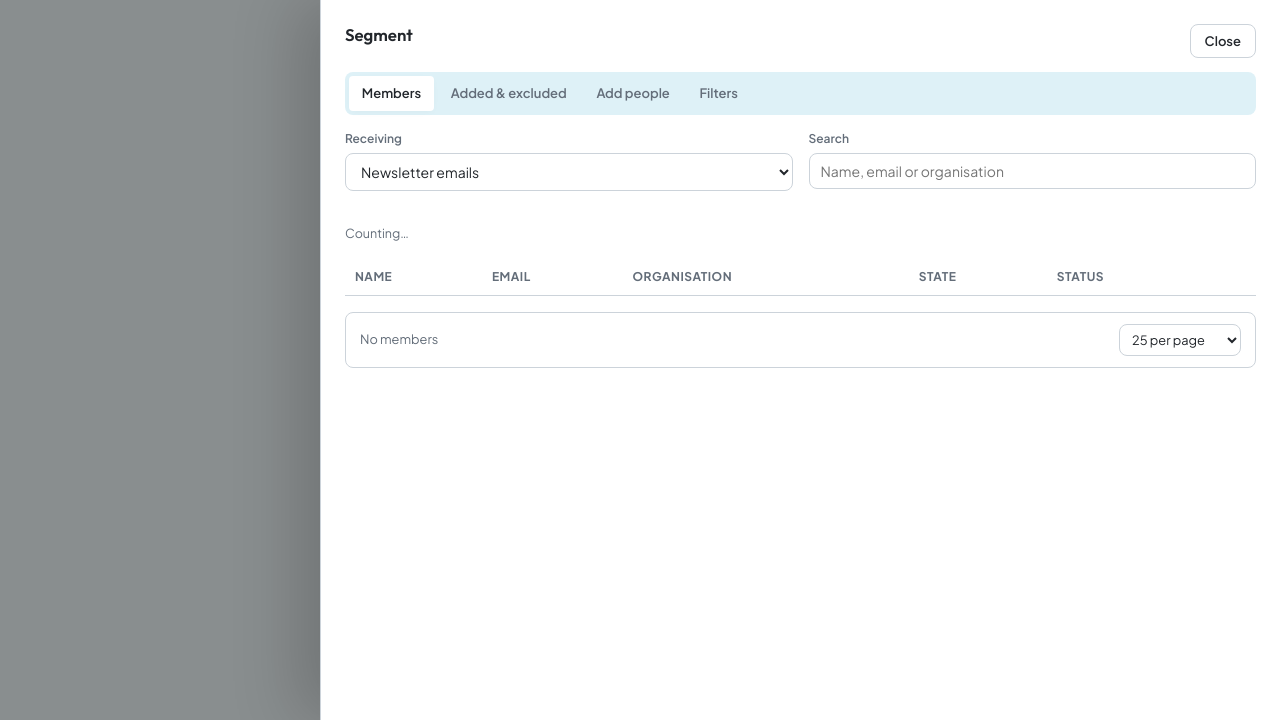
Test case: SegmentDrawer › adds someone by hand and says what their consent allows
This screenshot has width=1280, height=720.
Step 1. Click the tab with test id "segment-tab-add" → (633, 94), box [584,76,683,111]
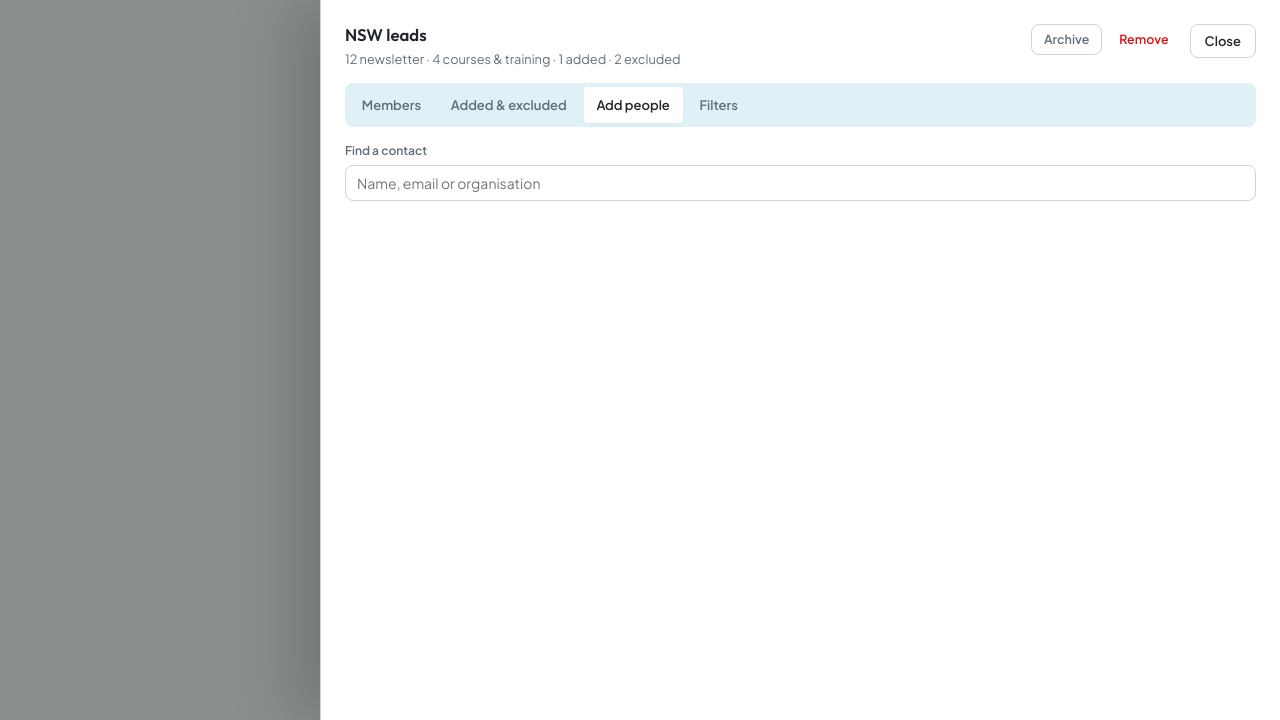
Step 2. Type "alan" into the field with test id "add-people-search" → (800, 183), box [345,165,1256,201]
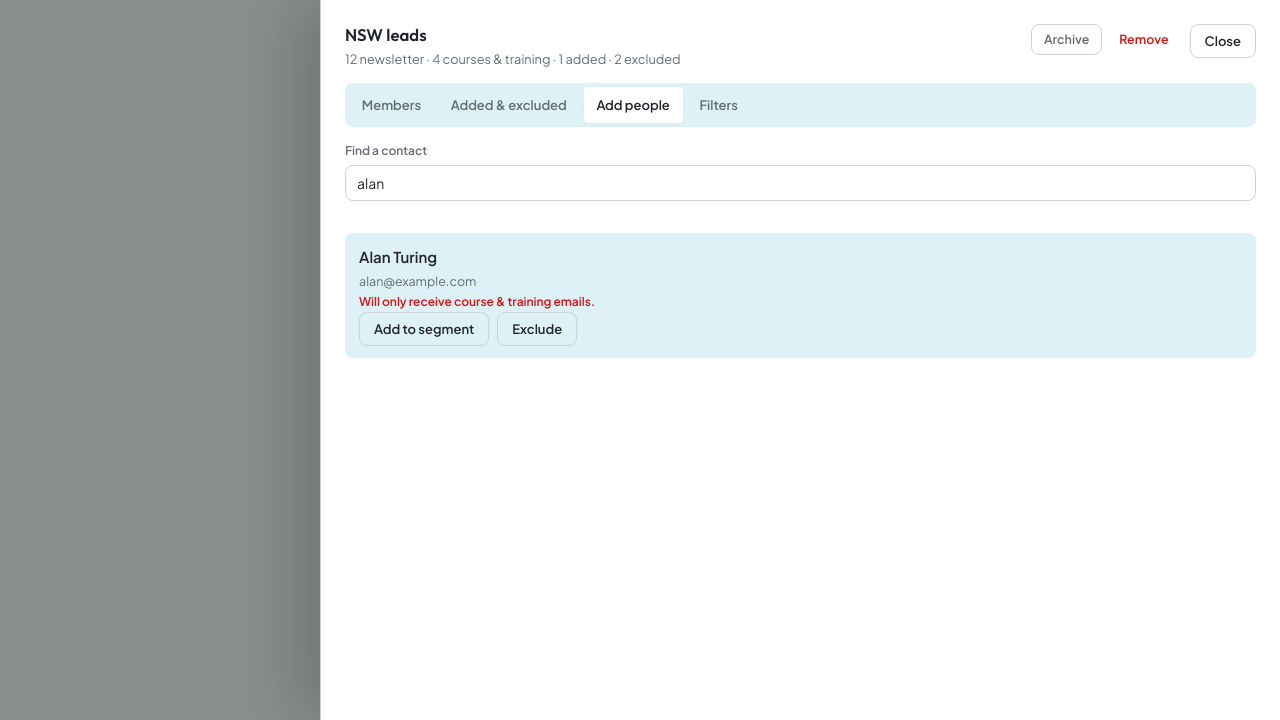
Now the list item with test id "candidate-c5" shows "only receive course & training emails", box [359,294,595,309]
Step 3. Click the button with test id "include-c5" → (424, 329), box [359,312,489,346]
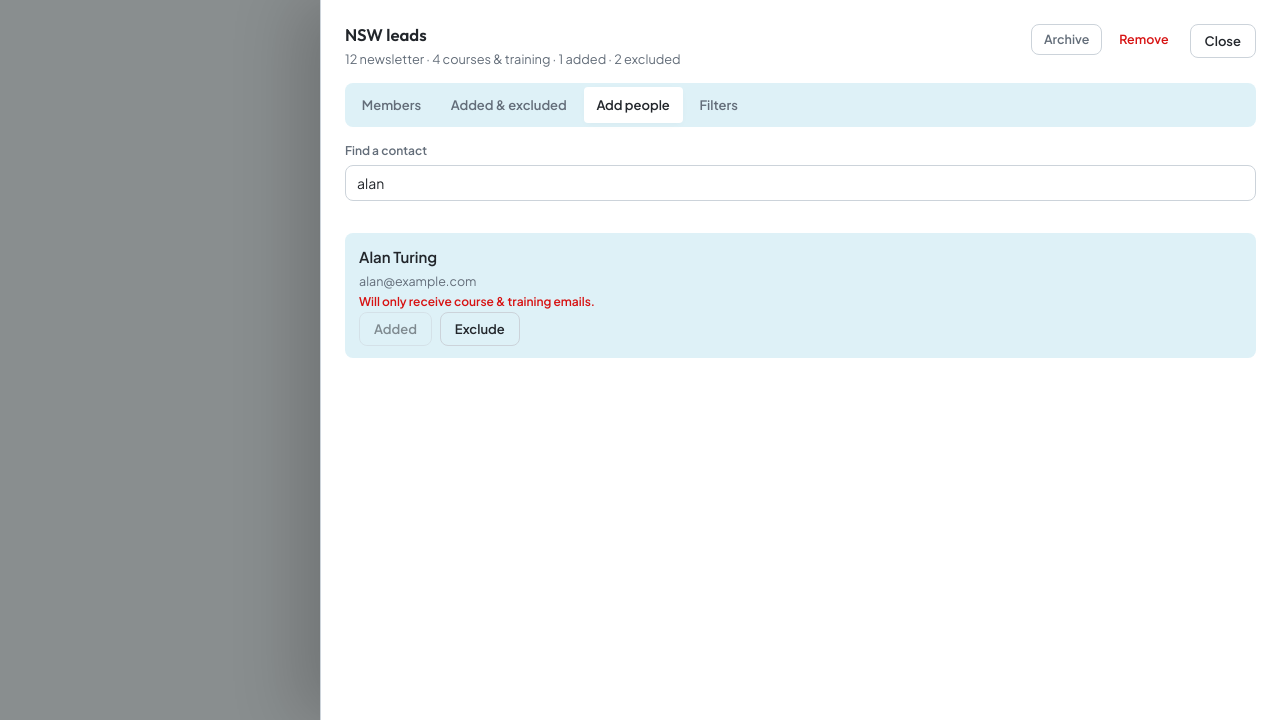
Now the button "Added" is shown, box [359,312,432,346]
